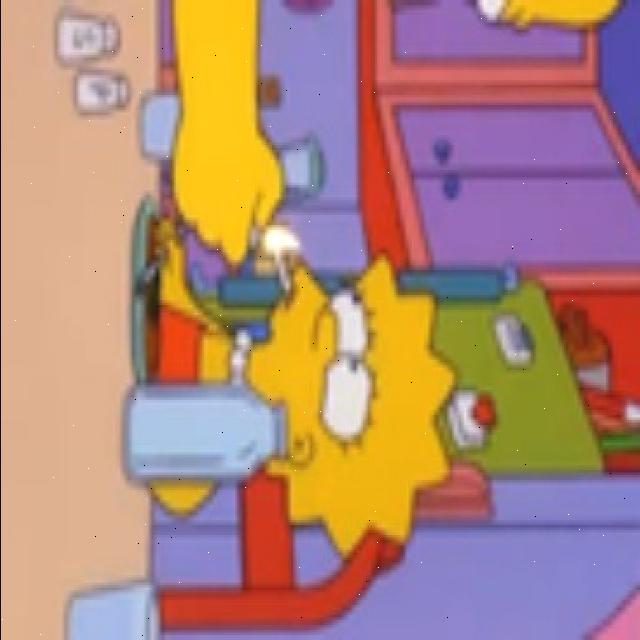Lisa Simpson: (256, 250, 462, 560)
